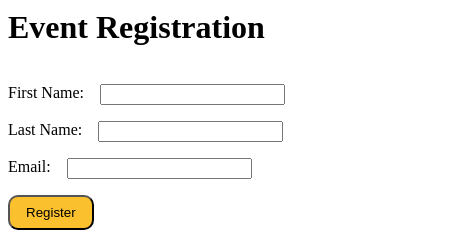
Test: RegisterForm › should display error message for invalid email
Type "wrongemail#@.com" into the field labelled "Email:".
click(159, 168); type("wrongemail#@.com")  # box [67,158,252,179]
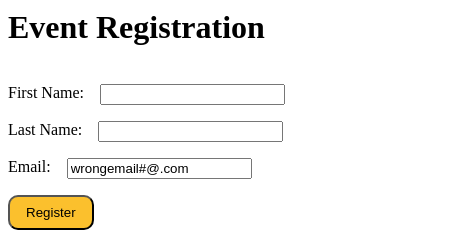
Click the button.
click(51, 212)  # box [8,195,94,230]
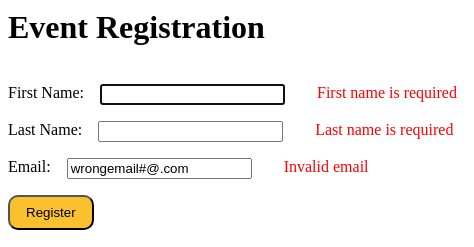
Result: the text "Invalid email" is shown at [284,158,369,179]
